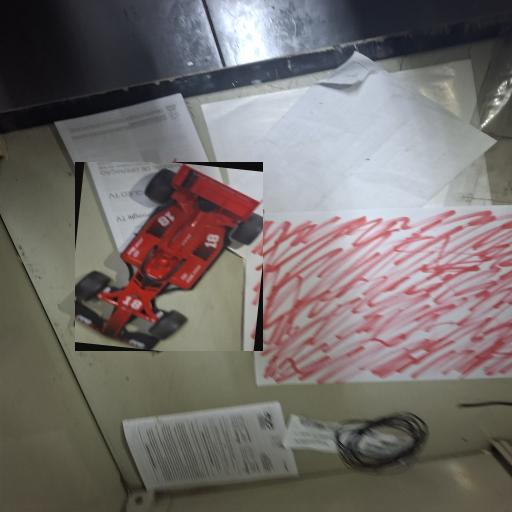carro: (75, 162, 262, 351)
